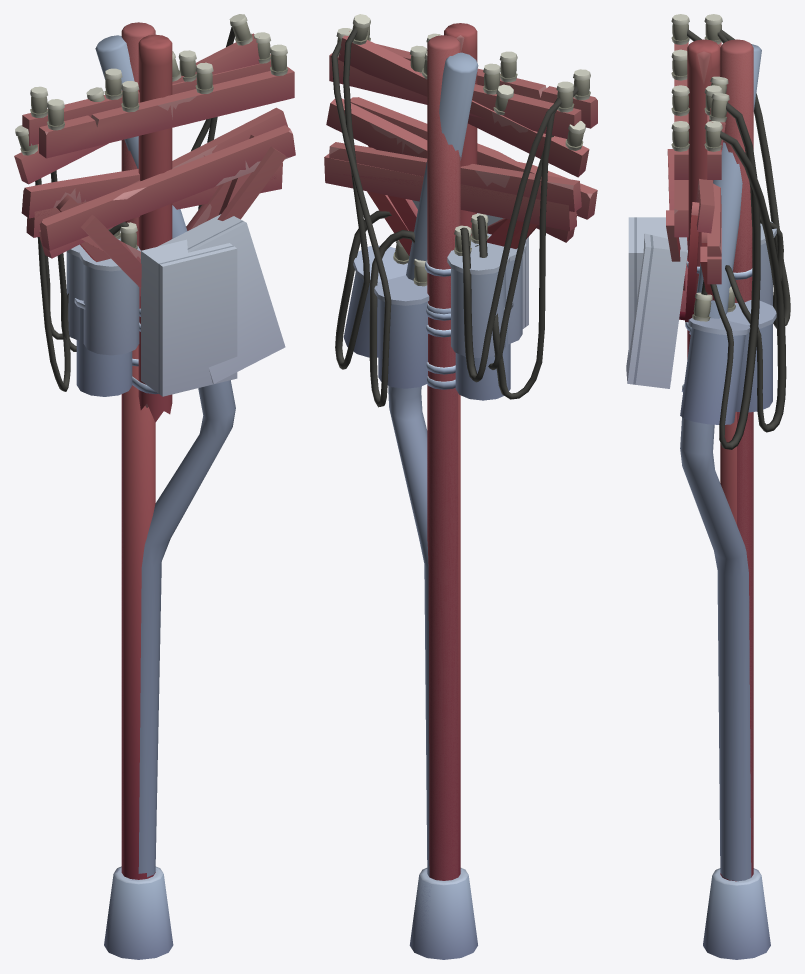
Rendered from Electric_Pillar.fbx.
3 views of the same model, side by side, from view 1: azimuth 30°, elevation 25°; view 2: azimuth 150°, elevation 25°; view 3: azimuth 270°, elevation 25° (orthographic).
Visible parts, largest first — view 1: SM_Electric_Pillar_02, SM_Electric_Pillar_03, SM_Electric_Pillar_01, SM_Electric_Pillar_04; view 2: SM_Electric_Pillar_01, SM_Electric_Pillar_04, SM_Electric_Pillar_03, SM_Electric_Pillar_02; view 3: SM_Electric_Pillar_03, SM_Electric_Pillar_04, SM_Electric_Pillar_02, SM_Electric_Pillar_01.
Part boxes in pixels (box(x1,y1,x2,y2)): SM_Electric_Pillar_02: box(39, 34, 295, 959); SM_Electric_Pillar_03: box(14, 14, 287, 950); SM_Electric_Pillar_01: box(22, 22, 282, 951); SM_Electric_Pillar_04: box(21, 31, 276, 875); SM_Electric_Pillar_01: box(324, 28, 581, 959); SM_Electric_Pillar_04: box(329, 28, 581, 880); SM_Electric_Pillar_03: box(326, 14, 589, 957); SM_Electric_Pillar_02: box(350, 20, 597, 951); SM_Electric_Pillar_03: box(626, 44, 761, 881); SM_Electric_Pillar_04: box(701, 14, 790, 874); SM_Electric_Pillar_02: box(628, 14, 756, 959); SM_Electric_Pillar_01: box(700, 14, 770, 959).
Size of the model in its own units: 366 by 1208 by 200.
